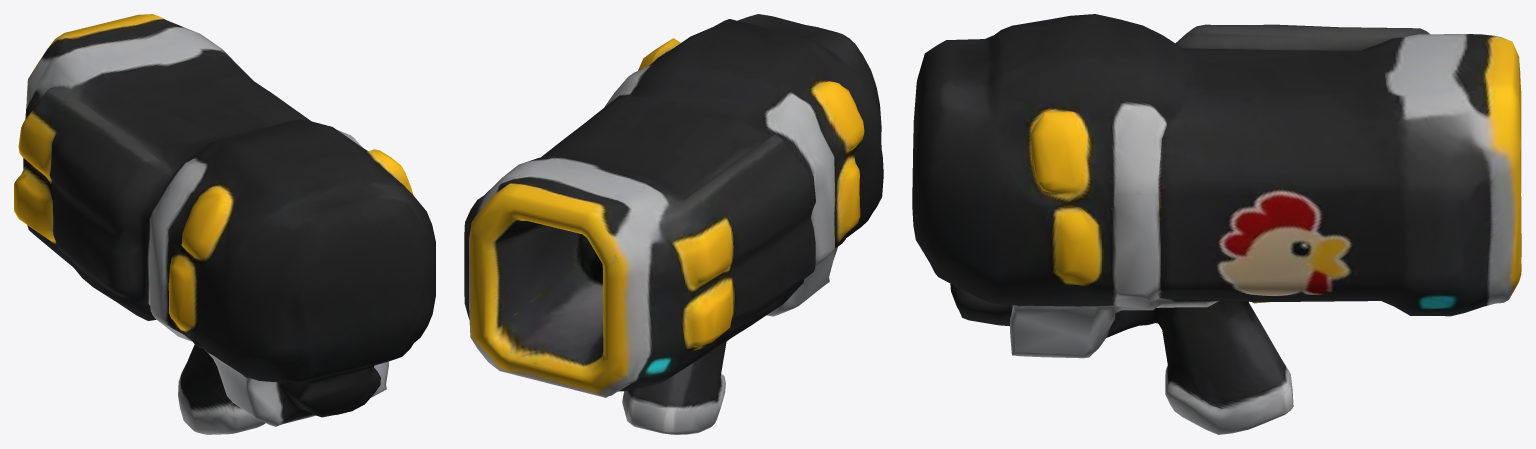
The model's file is prop-chicken-launcher.glb.
3 views of the same model, side by side, from view 1: azimuth 30°, elevation 25°; view 2: azimuth 150°, elevation 25°; view 3: azimuth 270°, elevation 25° (orthographic). The views are drawn at different scales.
Parts seen in each view (by area): view 1: model; view 2: model; view 3: model.
Part boxes in pixels (left/top/right/bottom): model: left=14, top=14, right=435, bottom=434; model: left=464, top=14, right=883, bottom=434; model: left=912, top=14, right=1521, bottom=434.
Size of the model in its own units: 0.5371 by 0.6914 by 1.
1 material, 1 textured.
